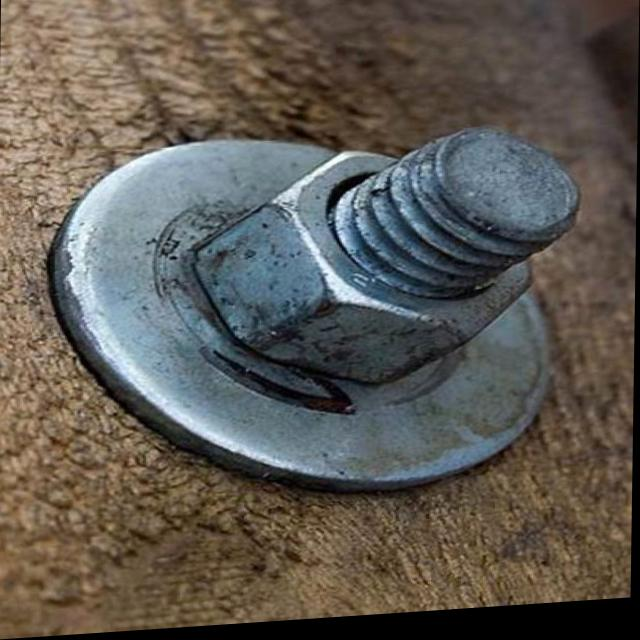Regular bolt: (204, 135, 580, 399)
